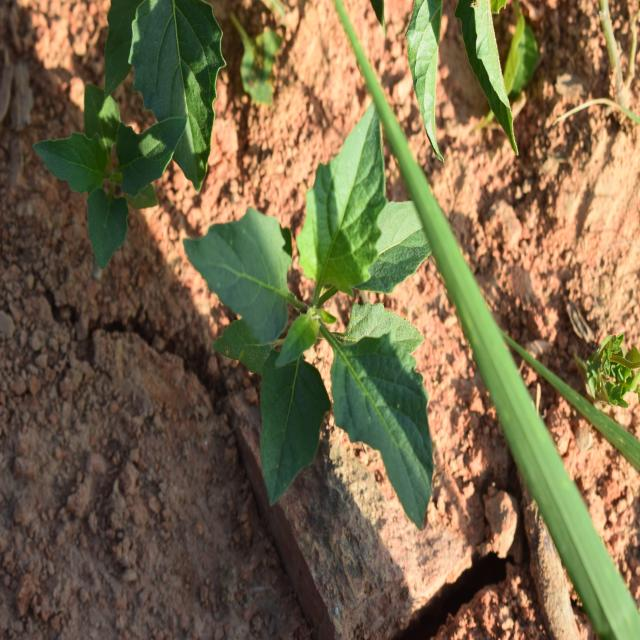Black_nightshade: (192, 133, 458, 506), (56, 90, 199, 262)
